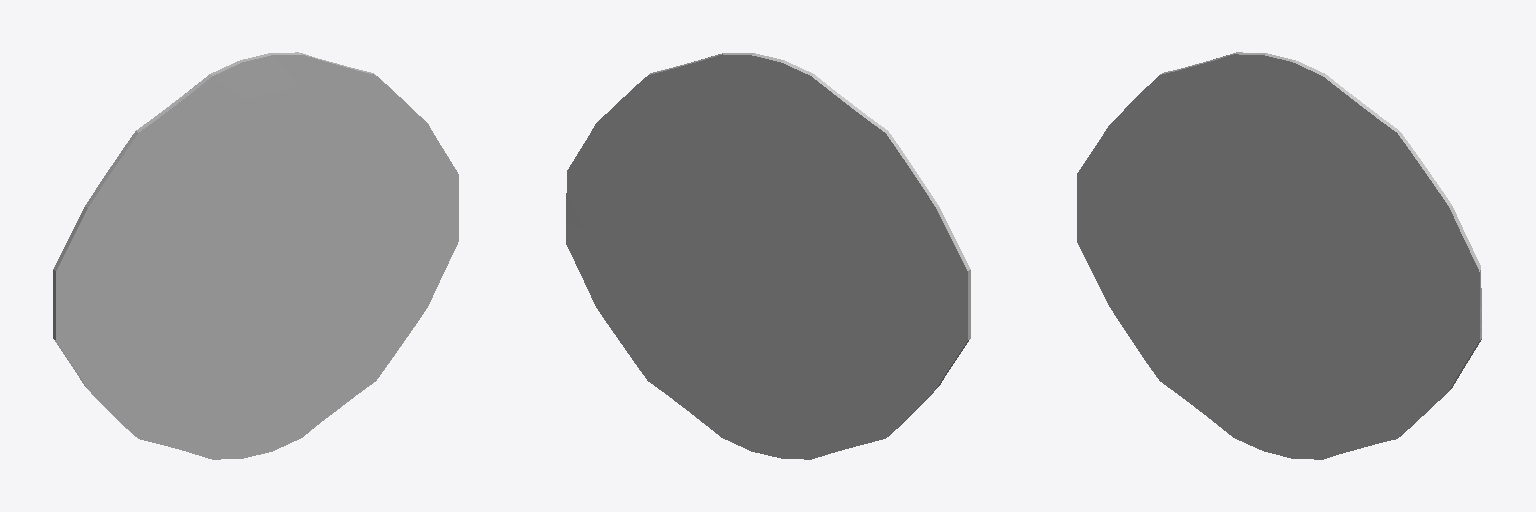
The model's file is slice_low.obj.
The picture shows the model from 3 angles: view 1: azimuth 30°, elevation 25°; view 2: azimuth 150°, elevation 25°; view 3: azimuth 330°, elevation 25°; orthographic projection.
Parts seen in each view (by area): view 1: test; view 2: test; view 3: test.
Boxes of the visible parts, x1,y1,x2,y2 form: test: [53, 52, 458, 459]; test: [566, 53, 970, 459]; test: [1077, 52, 1481, 459].
Size of the model in its own units: 2.43 by 2.29 by 0.0303.